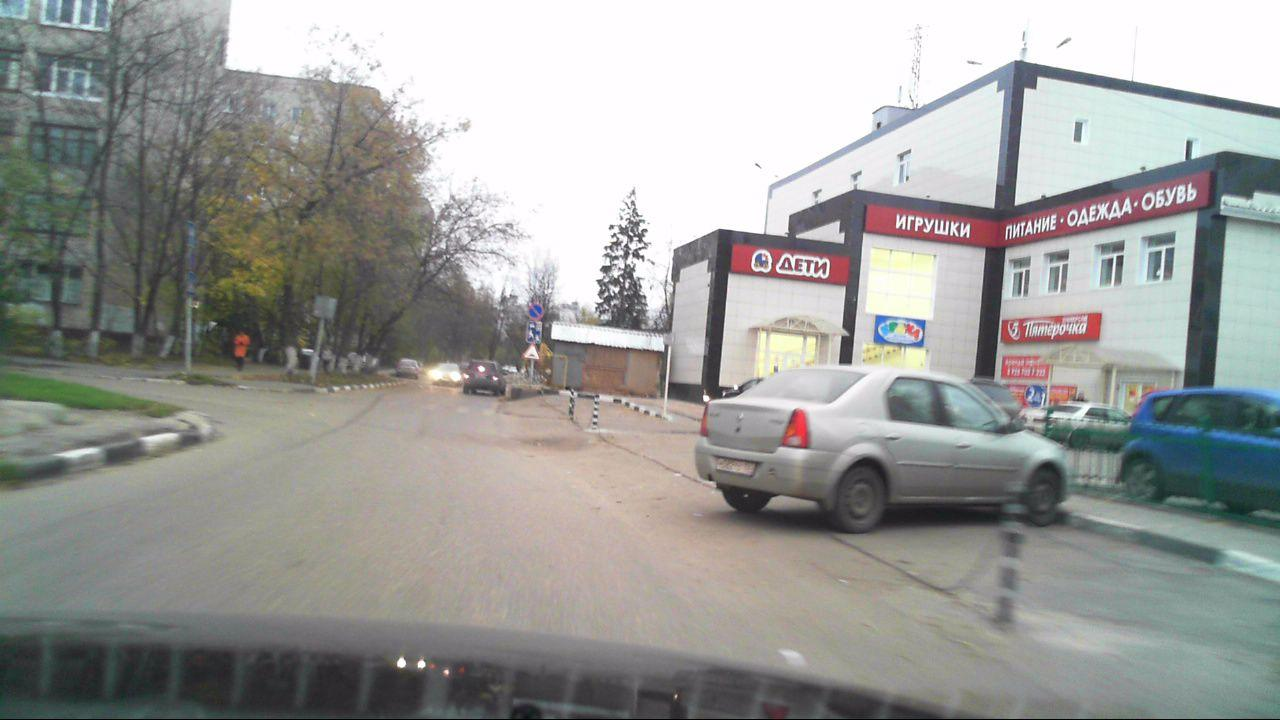1_17: (523, 343, 539, 360)
3_28: (185, 250, 199, 270), (529, 303, 544, 320)
5_19_1: (186, 272, 197, 294)
5_21: (526, 321, 542, 343)
5_5: (186, 222, 198, 246)
